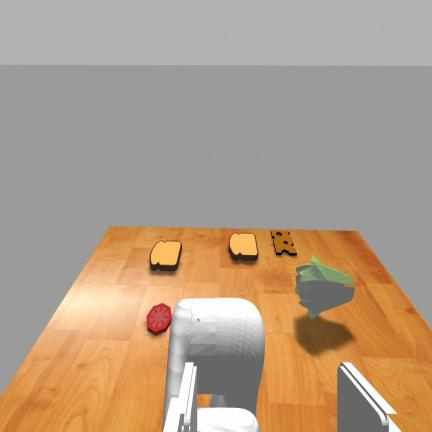cheese: (271, 230, 296, 254)
lettuce: (295, 256, 354, 319)
sliced_bread: (150, 241, 182, 270), (229, 233, 258, 260)
sliced_tomato: (147, 303, 171, 334)
